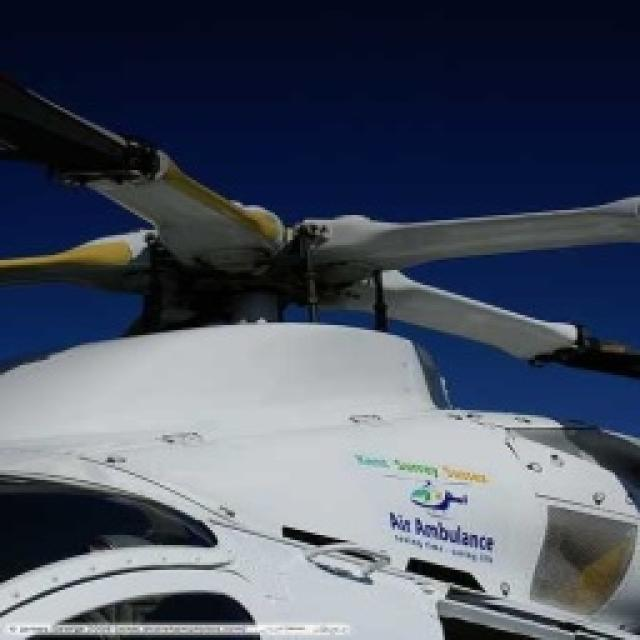ambulance: (0, 310, 638, 640)
